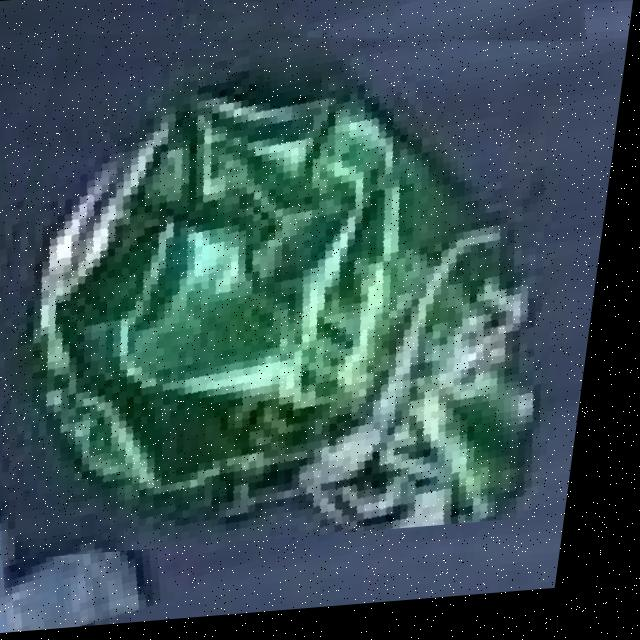litter: (9, 38, 594, 552)
